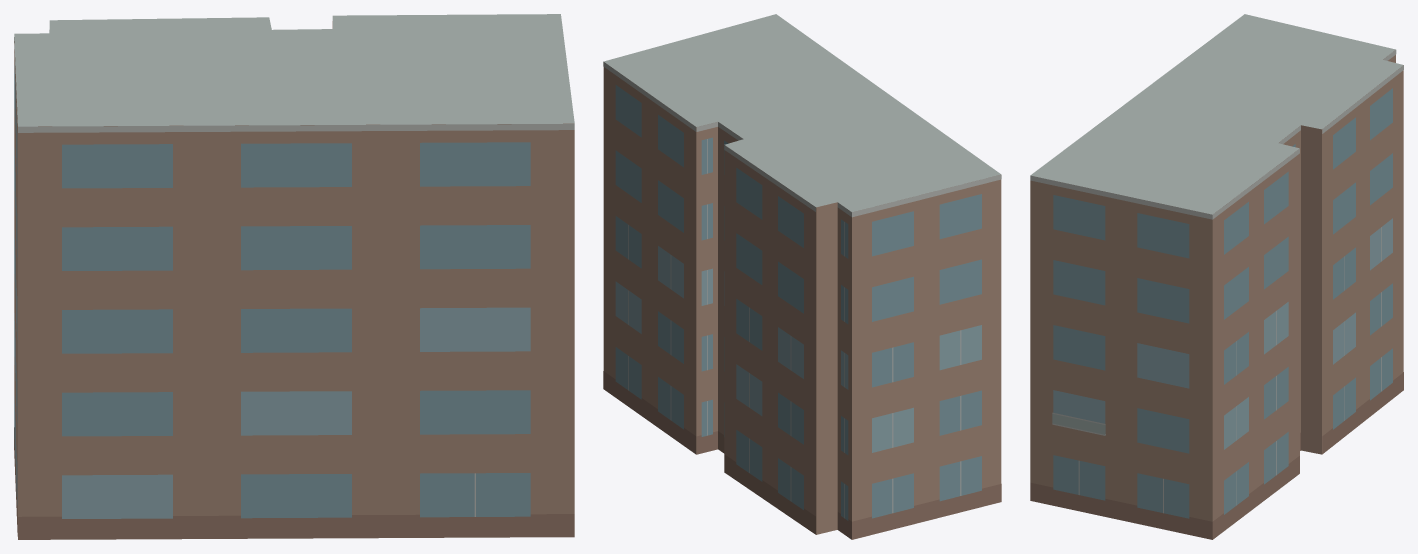
File: survey-upis-32635091.glb
The picture shows the model from 3 angles, left to right: view 1: azimuth 30°, elevation 25°; view 2: azimuth 150°, elevation 25°; view 3: azimuth 270°, elevation 25°; orthographic projection. The views are drawn at different scales.
Visible parts, largest first — view 1: survey-upis-32635091.tmp; view 2: survey-upis-32635091.tmp; view 3: survey-upis-32635091.tmp.
Boxes of the visible parts, left/top/right/bottom form: survey-upis-32635091.tmp: left=14, top=14, right=574, bottom=539; survey-upis-32635091.tmp: left=603, top=14, right=1001, bottom=539; survey-upis-32635091.tmp: left=1030, top=14, right=1403, bottom=539.
Bounding box in the file's own units: 21.05 × 15.9 × 16.56.
